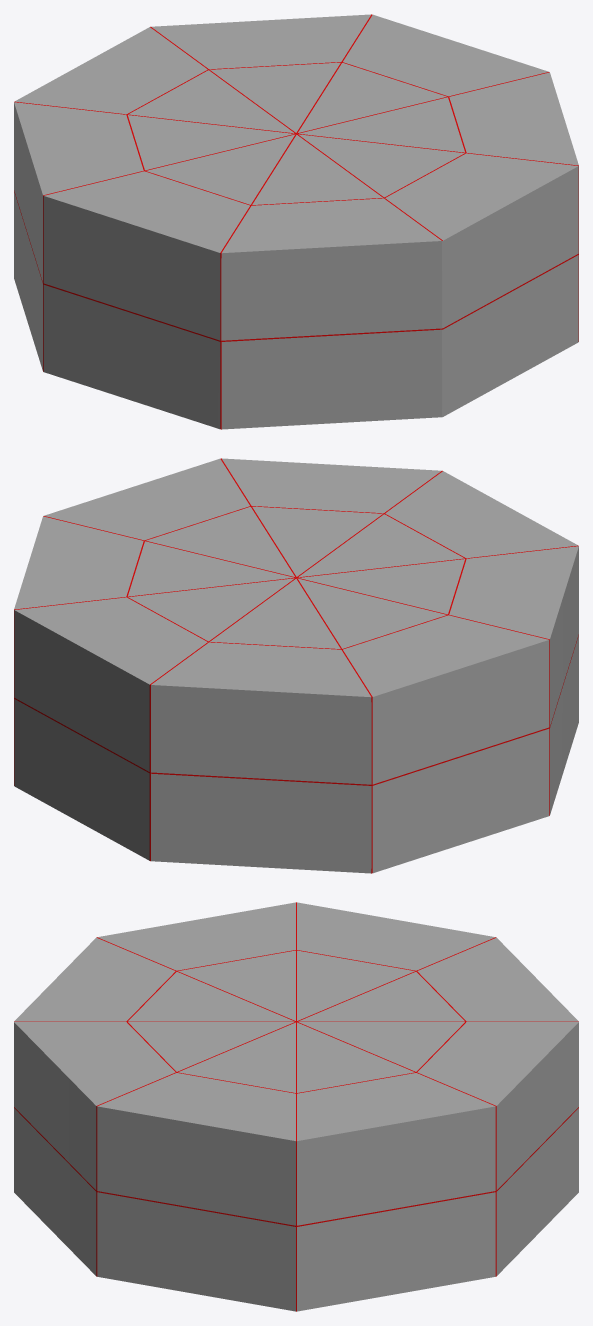
File: SM_PlanksCylinder_02.fbx
The picture shows the model from 3 angles, top to bottom: view 1: azimuth 30°, elevation 25°; view 2: azimuth 150°, elevation 25°; view 3: azimuth 270°, elevation 25°; orthographic projection. The views are drawn at different scales.
Visible parts, largest first — view 1: SM_Planks_Cylinder_02; view 2: SM_Planks_Cylinder_02; view 3: SM_Planks_Cylinder_02.
Boxes of the visible parts, box(x1,y1,x2,y2) form: SM_Planks_Cylinder_02: box(14, 14, 578, 429); SM_Planks_Cylinder_02: box(14, 458, 578, 873); SM_Planks_Cylinder_02: box(14, 902, 578, 1311).
Size of the model in its own units: 599 by 200 by 599.
